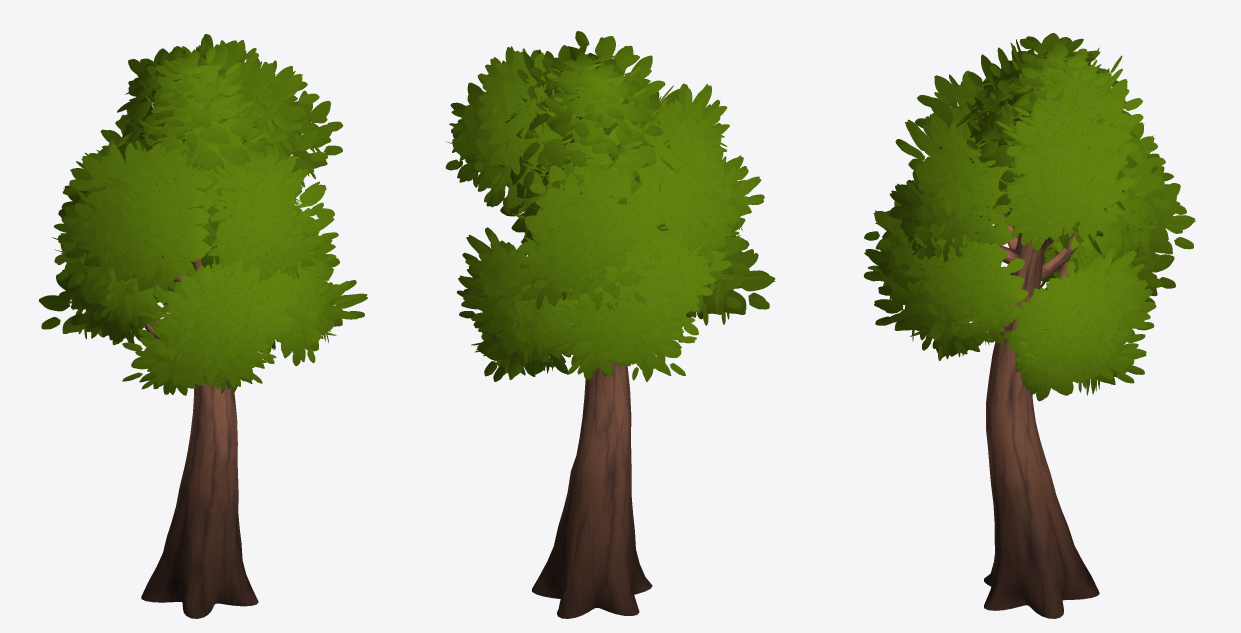
Rendered from hackathons-tree.glb.
The picture shows the model from 3 angles, left to right: view 1: azimuth 30°, elevation 25°; view 2: azimuth 150°, elevation 25°; view 3: azimuth 270°, elevation 25°; orthographic projection. The views are drawn at different scales.
Parts seen in each view (by area): view 1: CommonTree_1; view 2: CommonTree_1; view 3: CommonTree_1.
Boxes of the visible parts, <box> form: CommonTree_1: <box>38,34,367,618</box>; CommonTree_1: <box>445,31,775,618</box>; CommonTree_1: <box>863,33,1196,618</box>.
Size of the model in its own units: 4.31 by 7.26 by 4.58.
2 materials, 2 textured.
